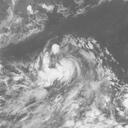cyclone: (35, 45, 96, 95)
